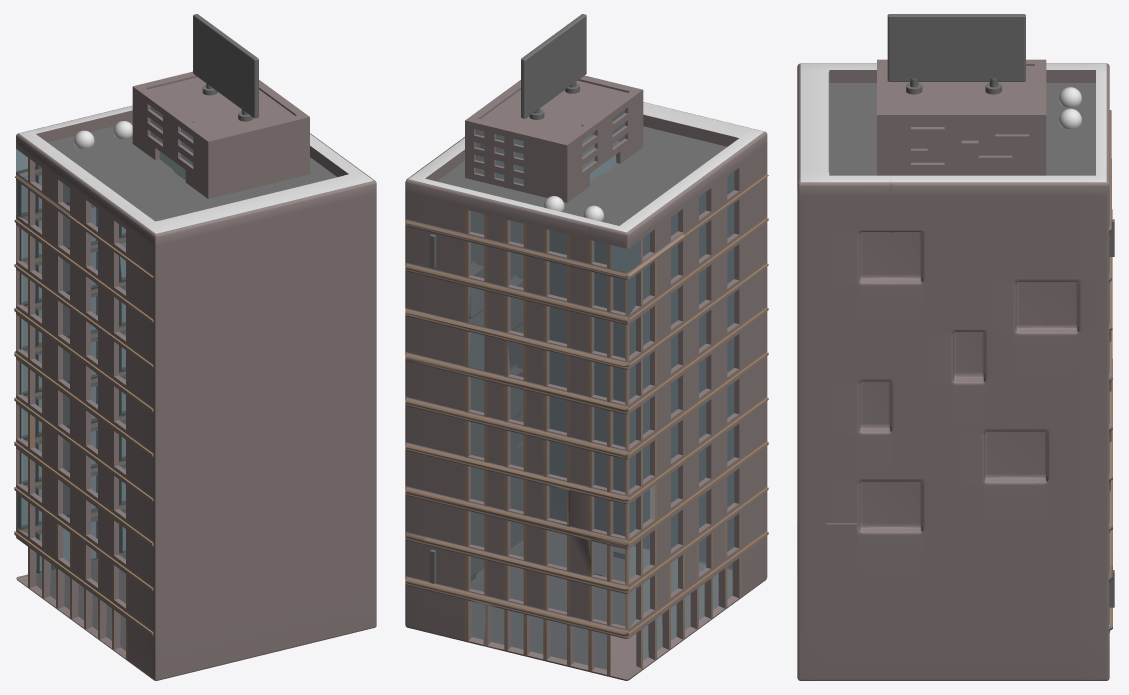
The model's file is building1.fbx.
The picture shows the model from 3 angles, left to right: view 1: azimuth 30°, elevation 25°; view 2: azimuth 150°, elevation 25°; view 3: azimuth 270°, elevation 25°; orthographic projection. The views are drawn at different scales.
Visible parts, largest first — view 1: pasted__pasted__group33_pasted__pasted__pPlane13, pasted__group36_pasted__pPlane9, pasted__pasted__pCube10; view 2: pasted__pasted__group33_pasted__pasted__pPlane13, pasted__group36_pasted__pPlane9, pasted__pasted__pCube10; view 3: pasted__pasted__group33_pasted__pasted__pPlane13, pasted__group36_pasted__pPlane9, pasted__pasted__pCube10.
Boxes of the visible parts, x1,y1,x2,y2 form: pasted__pasted__group33_pasted__pasted__pPlane13: [14, 105, 376, 680]; pasted__group36_pasted__pPlane9: [132, 71, 309, 198]; pasted__pasted__pCube10: [193, 14, 258, 118]; pasted__pasted__group33_pasted__pasted__pPlane13: [405, 102, 768, 680]; pasted__group36_pasted__pPlane9: [465, 75, 643, 202]; pasted__pasted__pCube10: [521, 14, 586, 118]; pasted__pasted__group33_pasted__pasted__pPlane13: [797, 63, 1112, 680]; pasted__group36_pasted__pPlane9: [877, 59, 1046, 175]; pasted__pasted__pCube10: [887, 14, 1025, 81].
Size of the model in its own units: 1.38 by 3.25 by 1.5.
